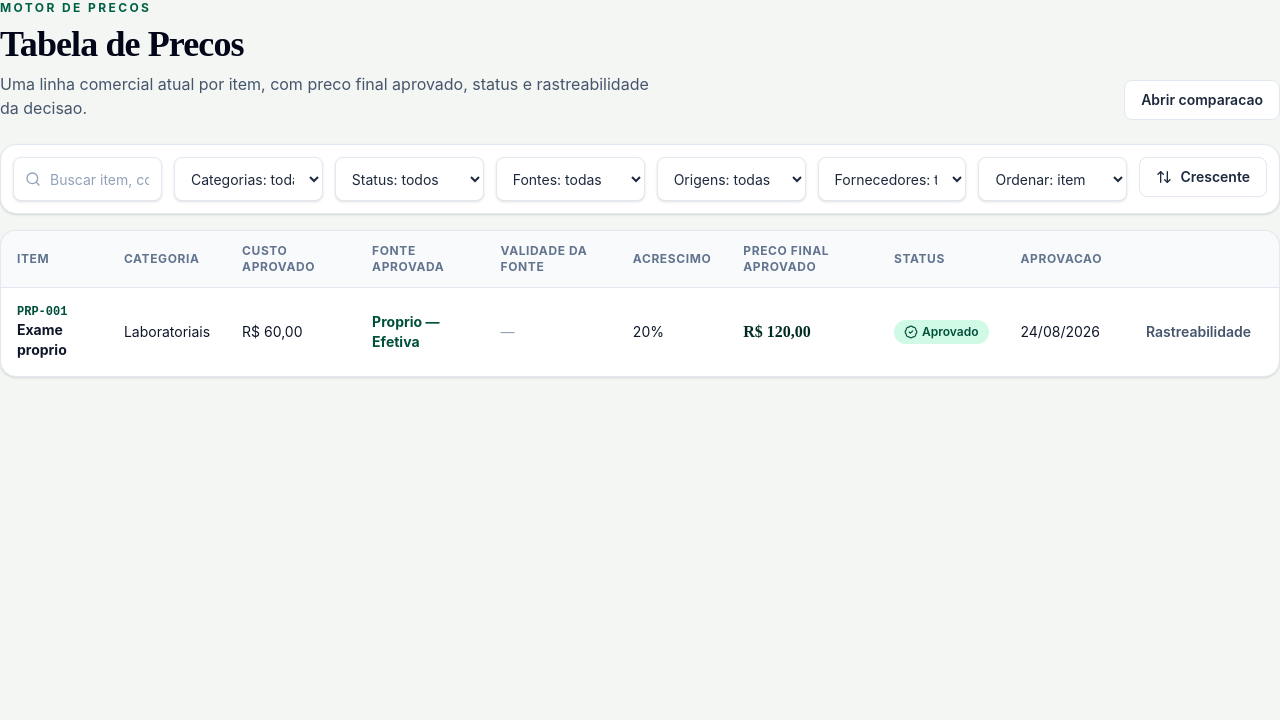
Test: PriceListPage › permite Admin consultar o custo interno e justificativa do preco proprio
Expected: the text "R$ 60,00" is shown, [226,288,356,376]
Click the button "Rastreabilidade": click(1198, 332) [1134,314,1263,350]
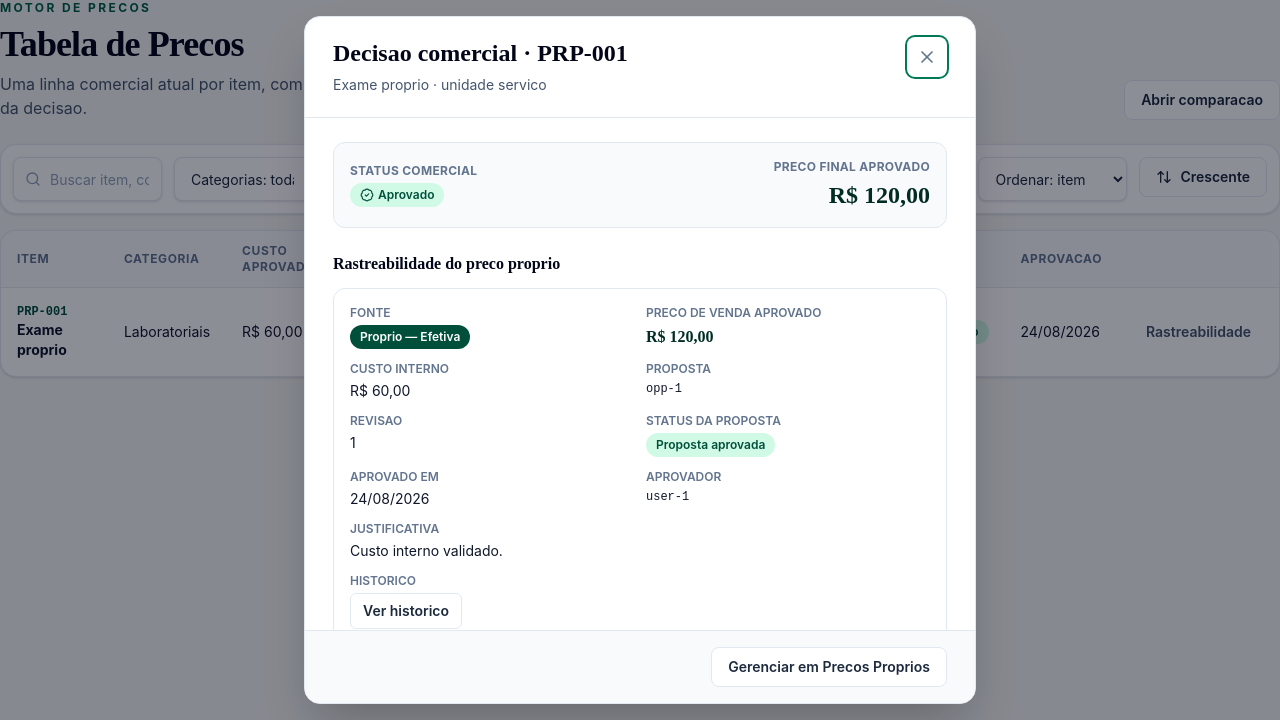
Now the dialog "PRP-001" is shown, box [304,16,976,704]
Now the text "Custo interno validado." is shown, box [350,542,503,559]
Now the button "Ver historico" is shown, box [350,593,462,629]
